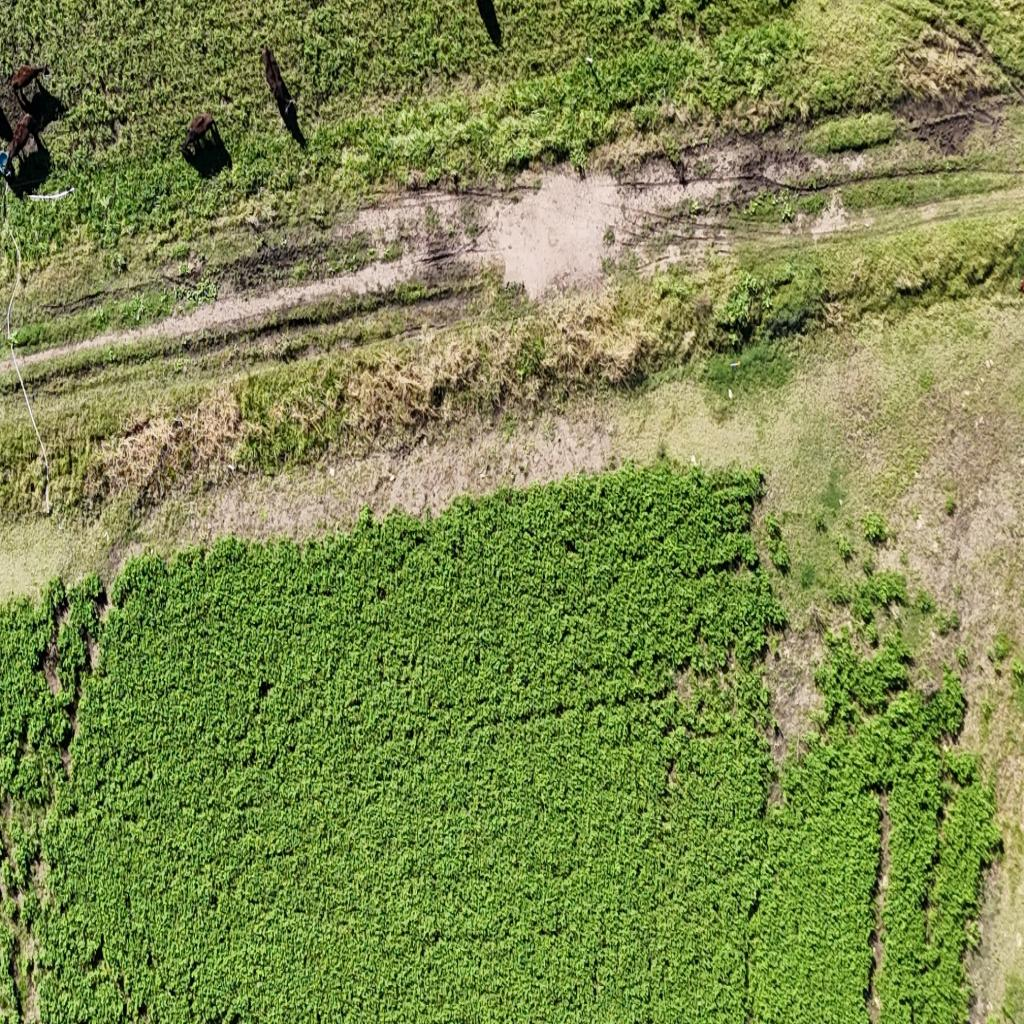cow: (260, 43, 296, 127), (3, 111, 38, 174), (9, 62, 49, 112), (180, 108, 216, 162)
